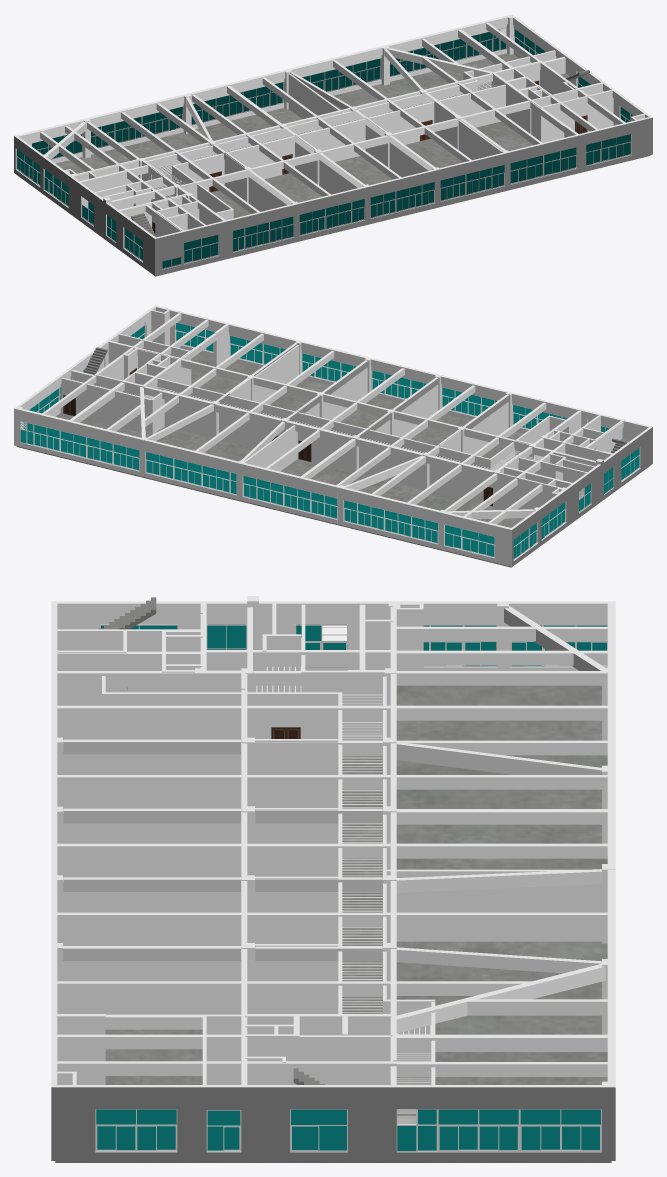
3 renders of one model, top to bottom at view 1: azimuth 30°, elevation 25°; view 2: azimuth 150°, elevation 25°; view 3: azimuth 270°, elevation 25°, orthographic. The views are drawn at different scales.
Parts seen in each view (by area): view 1: 矩形梁, 墙, 玻璃, 外墙灰, 楼板, 不锈钢, 外墙, 柱, 吊顶, 双扇门, 楼梯; view 2: 矩形梁, 墙, 玻璃, 外墙, 楼板, 不锈钢, 柱, 外墙灰, 吊顶, 双扇门, 楼梯; view 3: 矩形梁, 墙, 楼板, 外墙灰, 玻璃, 柱, 外墙, 吊顶, 不锈钢, 楼梯.
Boxes of the visible parts, <box> form: 矩形梁: <box>14,16,652,238</box>; 墙: <box>74,50,614,236</box>; 玻璃: <box>17,29,633,268</box>; 外墙灰: <box>14,117,652,275</box>; 楼板: <box>17,53,650,276</box>; 不锈钢: <box>16,27,631,269</box>; 外墙: <box>15,24,644,269</box>; 柱: <box>41,14,514,236</box>; 吊顶: <box>154,61,543,197</box>; 双扇门: <box>152,80,587,233</box>; 楼梯: <box>131,70,589,237</box>; 矩形梁: <box>18,305,652,536</box>; 墙: <box>60,324,622,509</box>; 玻璃: <box>20,323,639,558</box>; 外墙: <box>20,309,641,566</box>; 楼板: <box>16,353,649,567</box>; 不锈钢: <box>20,322,639,559</box>; 柱: <box>14,340,603,550</box>; 外墙灰: <box>512,427,652,566</box>; 吊顶: <box>70,379,551,470</box>; 双扇门: <box>63,368,492,506</box>; 楼梯: <box>84,347,630,453</box>; 矩形梁: <box>51,601,615,1087</box>; 墙: <box>55,602,601,1087</box>; 楼板: <box>55,685,611,1162</box>; 外墙灰: <box>51,1087,615,1160</box>; 玻璃: <box>96,625,607,1150</box>; 柱: <box>51,596,615,1087</box>; 外墙: <box>55,601,607,1152</box>; 吊顶: <box>256,666,431,1084</box>; 不锈钢: <box>95,624,607,1151</box>; 楼梯: <box>98,597,324,1084</box>.
Bounding box in the file's own units: 59.33 × 4.75 × 29.1.
9 materials, 5 textured.
